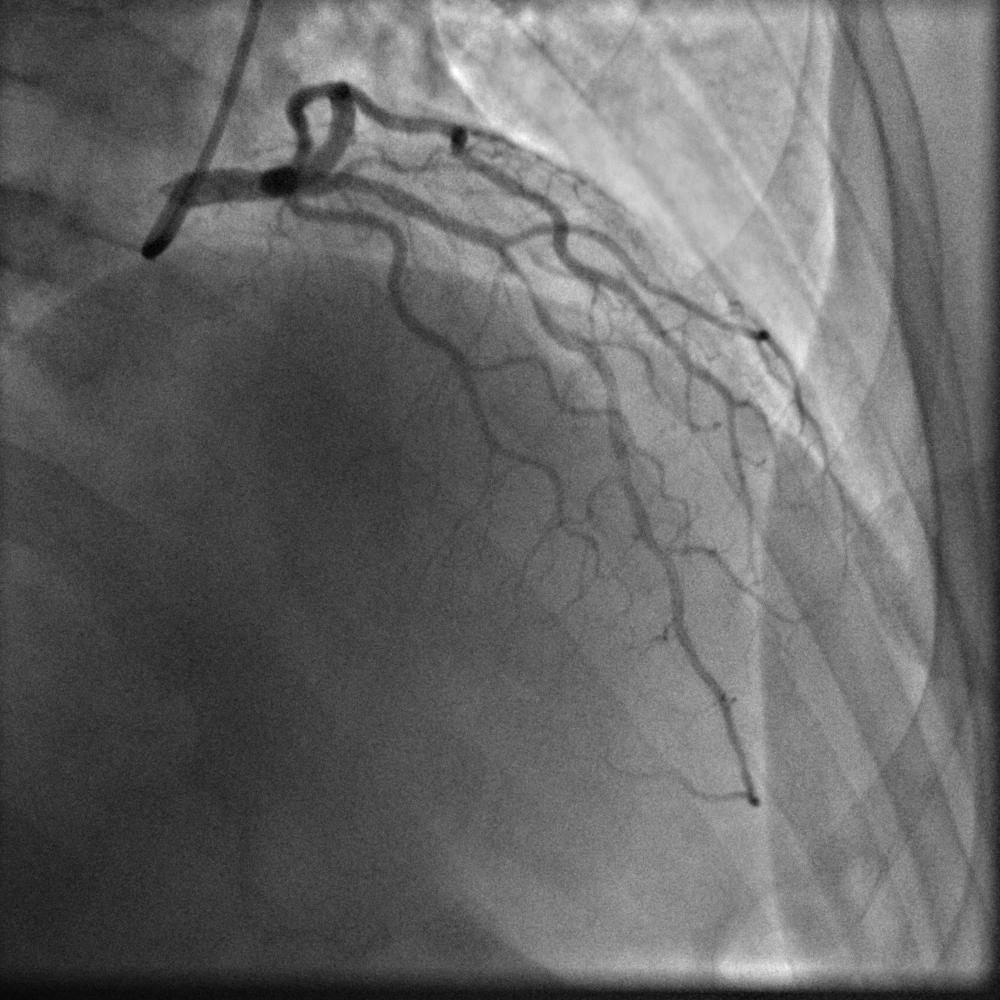Stenosis: (503, 261, 555, 323)
